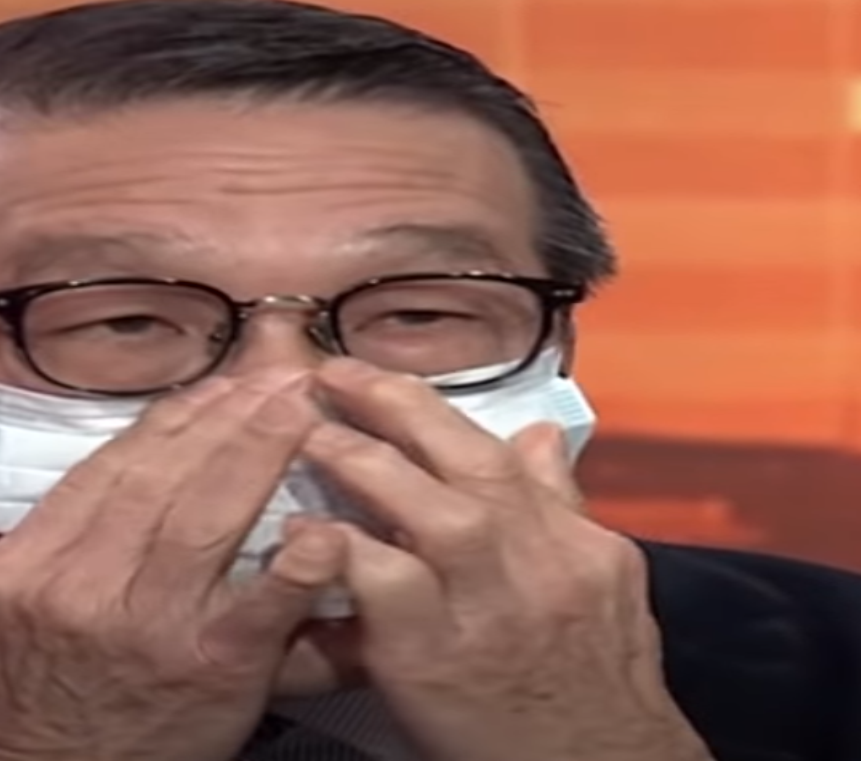mask_weared_incorrect: (1, 26, 596, 704)
